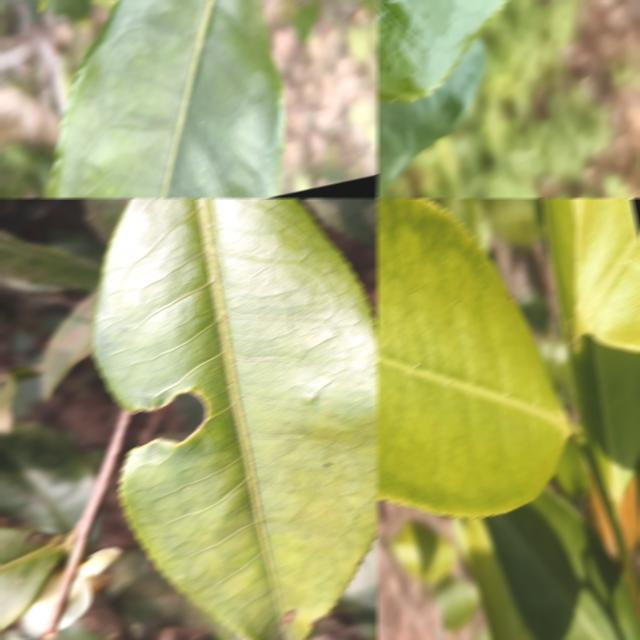Leaf: (91, 198, 378, 640), (376, 198, 572, 516), (48, 0, 284, 198), (482, 491, 640, 640), (376, 38, 486, 185), (577, 335, 640, 516), (0, 422, 95, 533), (573, 198, 640, 351), (463, 518, 536, 640), (0, 527, 64, 630), (0, 229, 101, 291), (40, 289, 97, 398), (541, 198, 578, 329), (389, 520, 457, 585), (479, 198, 546, 246), (340, 532, 378, 610), (432, 578, 480, 628)
